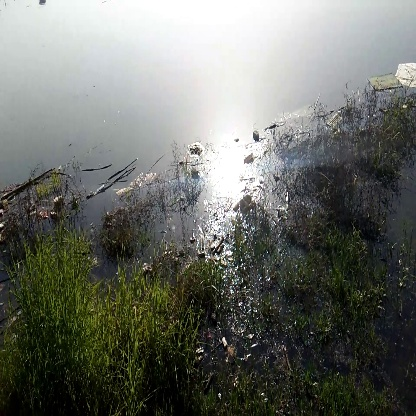branch: (5, 164, 55, 203)
